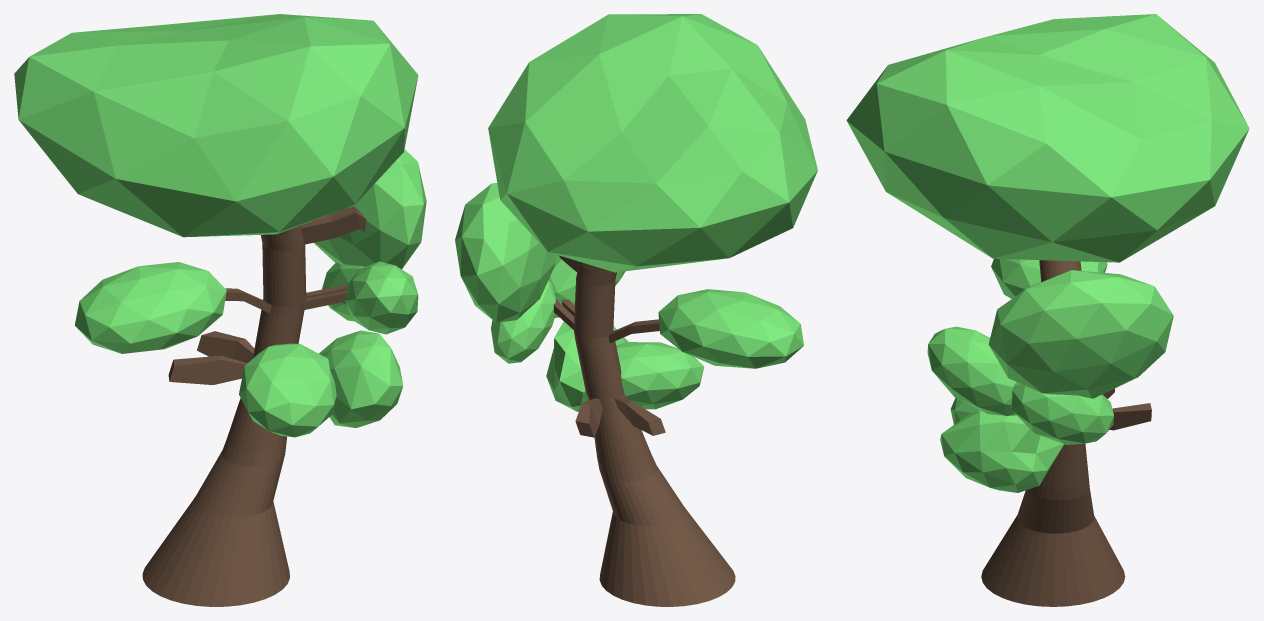
Rendered from Tree2.gltf.
3 views of the same model, side by side, from view 1: azimuth 30°, elevation 25°; view 2: azimuth 150°, elevation 25°; view 3: azimuth 270°, elevation 25° (orthographic). The views are drawn at different scales.
Visible parts, largest first — view 1: Cylinder; view 2: Cylinder; view 3: Cylinder.
Boxes of the visible parts, x1,y1,x2,y2 form: Cylinder: (14,14,426,606); Cylinder: (455,14,817,606); Cylinder: (846,14,1249,606).
Size of the model in its own units: 10.69 by 15.49 by 10.38.
